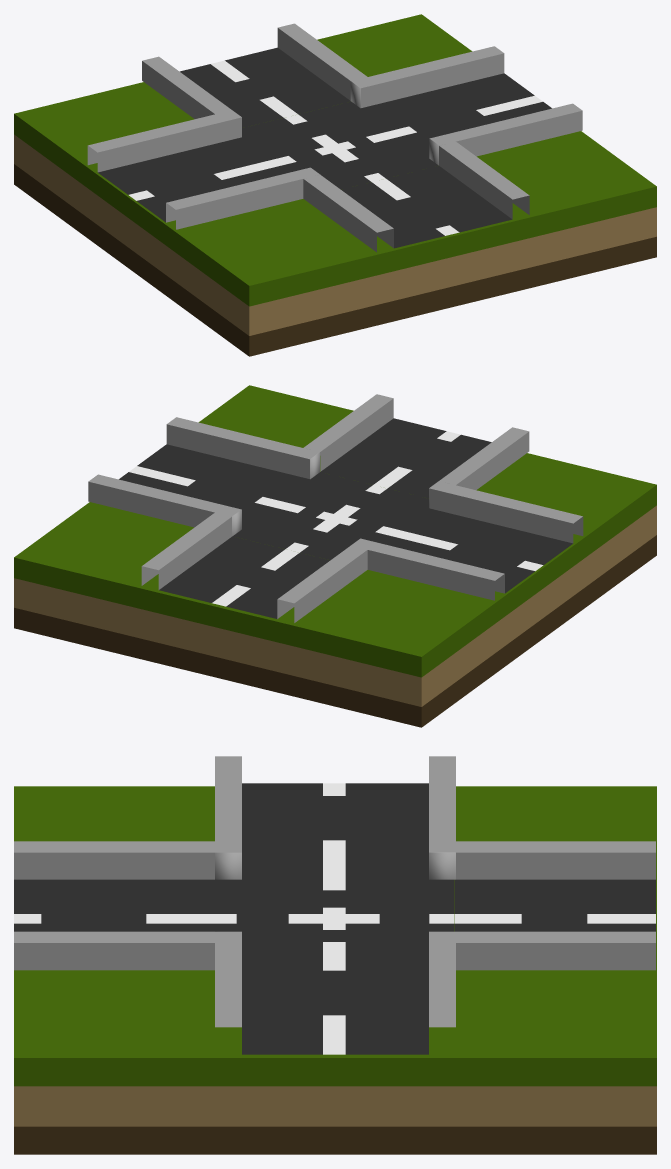
Rendered from foursides road.fbx.
3 renders of one model, top to bottom at view 1: azimuth 30°, elevation 25°; view 2: azimuth 150°, elevation 25°; view 3: azimuth 270°, elevation 25°, orthographic. The views are drawn at different scales.
Visible parts, largest first — view 1: road ground.001; view 2: road ground.001; view 3: road ground.001.
Part boxes in pixels (bbox=[...]): road ground.001: bbox=[14, 14, 656, 356]; road ground.001: bbox=[14, 385, 656, 727]; road ground.001: bbox=[14, 756, 656, 1154].
Size of the model in its own units: 200 by 43.47 by 200.
